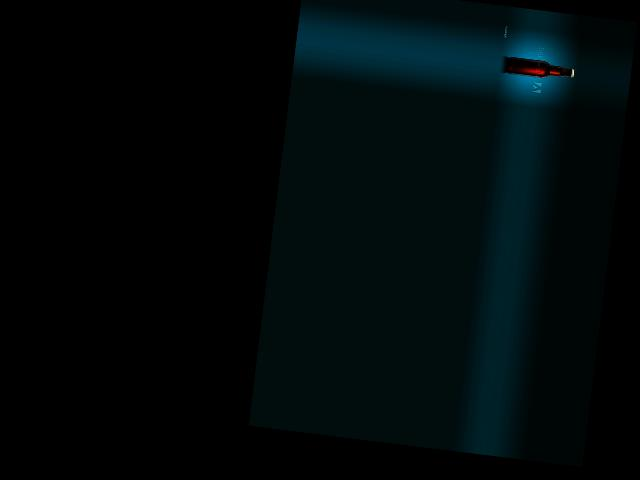beer: (506, 56, 574, 81)
